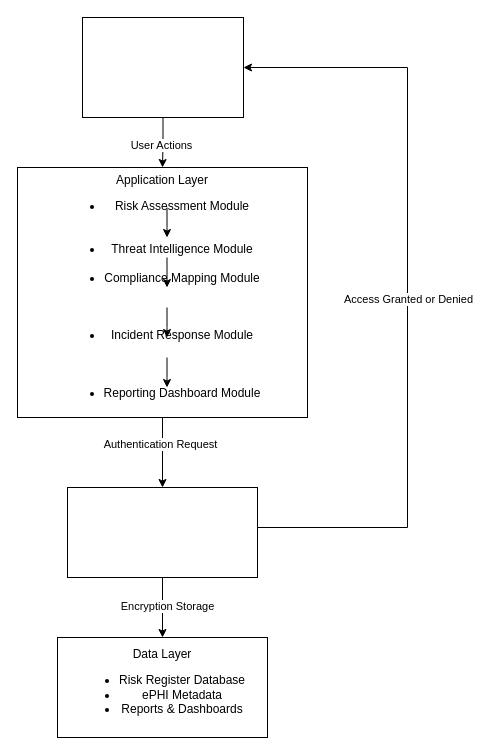
The diagram is 490 pixels wide and 755 high, and some of its shapes have lost their labels. The shapes that lost their labels are listed below. From the top down, each one's box as (x1, y1, x2, y2) in pixels, then its label:
(82, 16, 244, 118): User Layer IT Security Team Compliance Officer Healthcare Admin Clinicians
(66, 486, 258, 578): Security Layer Authentication (RBAC) Encryption Services Audit Logging
